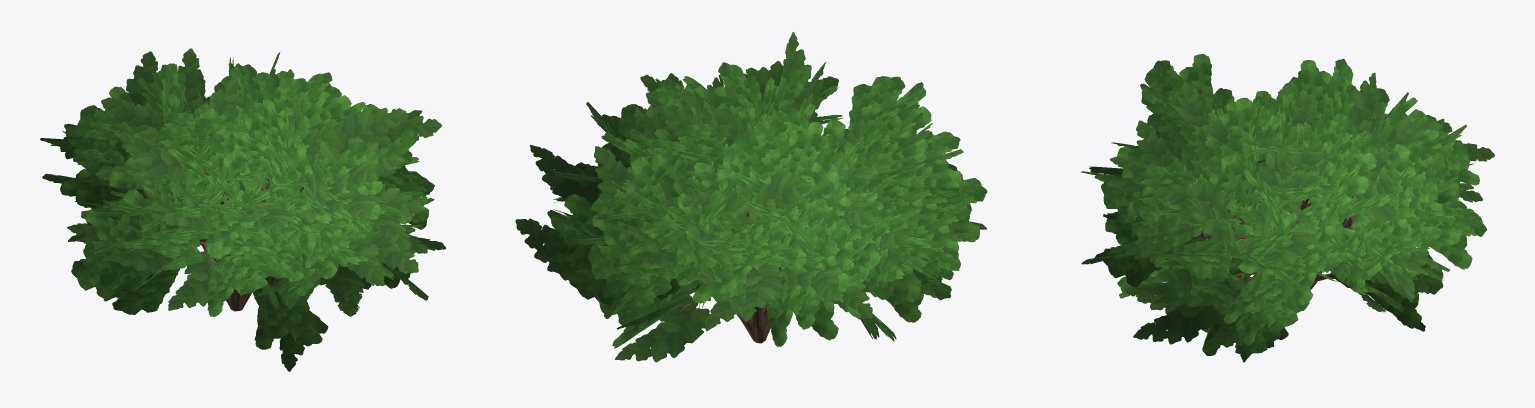
File: SM_Bush_LOD1.fbx
3 renders of one model, left to right at view 1: azimuth 30°, elevation 25°; view 2: azimuth 150°, elevation 25°; view 3: azimuth 270°, elevation 25°, orthographic. The views are drawn at different scales.
Visible parts, largest first — view 1: SM_Bush_LOD1; view 2: SM_Bush_LOD1; view 3: SM_Bush_LOD1.
Part boxes in pixels (x1,y1,x2,y2): SM_Bush_LOD1: (40,48,445,371); SM_Bush_LOD1: (515,32,987,362); SM_Bush_LOD1: (1081,54,1494,362).
Bounding box in the file's own units: 2.53 × 1.65 × 2.44.
Materials: 2 (2 with a texture image).
